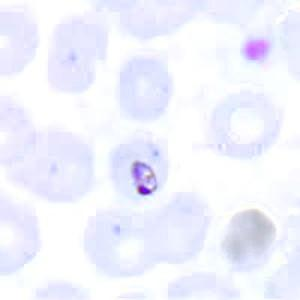Infected: (107, 135, 167, 202)
Uninfected: (15, 131, 92, 203), (82, 205, 155, 274), (209, 89, 282, 158), (45, 19, 109, 91), (156, 189, 208, 266), (221, 207, 276, 272), (119, 56, 173, 120)
